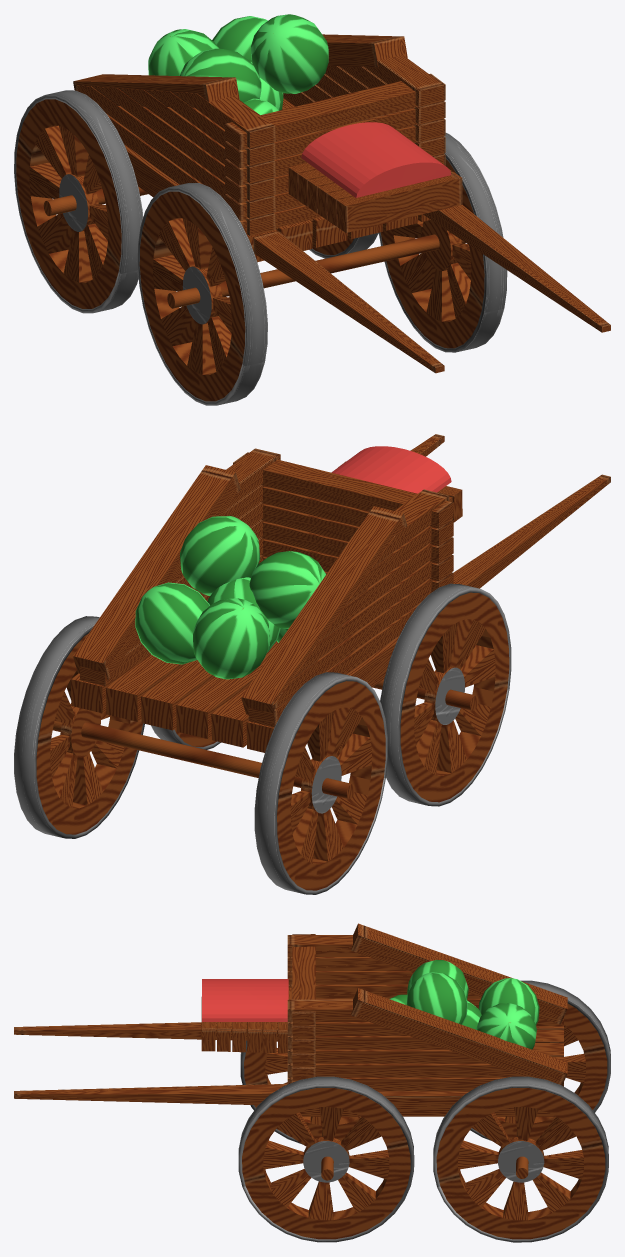
File: Wagon 1.fbx
3 renders of one model, top to bottom at view 1: azimuth 30°, elevation 25°; view 2: azimuth 150°, elevation 25°; view 3: azimuth 270°, elevation 25°, orthographic. The views are drawn at different scales.
Visible parts, largest first — view 1: Wheels Front, Woods side, Wheels Front.003, Wheels Front.002, Woods front, Wood Pull, Cylinder, Wheels Front.004, Woods front.001, Wood Base.001, Sphere.004, Wood Base (+5 smaller); view 2: Wheels Front.003, Wood Base.001, Wheels Front, Woods side, Wheels Front.004, Wood Base, Woods front, Wheels Front.002, Sphere, Sphere.004, Sphere.005, Wood Pull (+5 smaller); view 3: Wheels Front.003, Wheels Front, Woods side, Wood Base.001, Wood Pull, Wheels Front.004, Wheels Front.002, Cylinder, Wood Base, Woods front, Woods front.001, Sphere.004 (+3 smaller).
Part boxes in pixels (x1,y1,x2,y2): Wheels Front: (139, 158, 484, 401); Woods side: (74, 51, 444, 236); Wheels Front.003: (16, 99, 353, 308); Wheels Front.002: (137, 133, 507, 405); Woods front: (224, 73, 445, 234); Wood Pull: (253, 204, 610, 373); Cylinder: (301, 122, 451, 197); Wheels Front.004: (14, 90, 378, 313); Woods front.001: (288, 162, 462, 232); Wood Base.001: (73, 34, 407, 107); Sphere.004: (251, 14, 328, 93); Wood Base: (124, 96, 430, 262); Wheels Front.003: (36, 633, 385, 890); Wood Base.001: (73, 465, 407, 714); Wheels Front: (174, 592, 509, 802); Woods side: (80, 448, 449, 727); Wheels Front.004: (14, 616, 387, 894); Wood Base: (70, 636, 399, 752); Woods front: (233, 452, 453, 592); Wheels Front.002: (151, 583, 511, 806); Sphere: (193, 598, 269, 679); Sphere.004: (180, 516, 260, 595); Sphere.005: (135, 582, 209, 664); Wood Pull: (410, 434, 610, 588); Wheels Front.003: (436, 1004, 607, 1239); Wheels Front: (242, 1041, 410, 1239); Woods side: (287, 935, 563, 1091); Wood Base.001: (351, 923, 567, 1085); Wood Pull: (14, 1022, 287, 1105); Wheels Front.004: (433, 980, 610, 1242); Wheels Front.002: (238, 1040, 414, 1242); Cylinder: (202, 979, 288, 1021); Wood Base: (300, 1026, 563, 1116); Woods front: (292, 934, 315, 1082); Woods front.001: (201, 987, 291, 1053); Sphere.004: (406, 972, 467, 1024).
Size of the model in its own units: 6.44 by 5.93 by 13.78.
